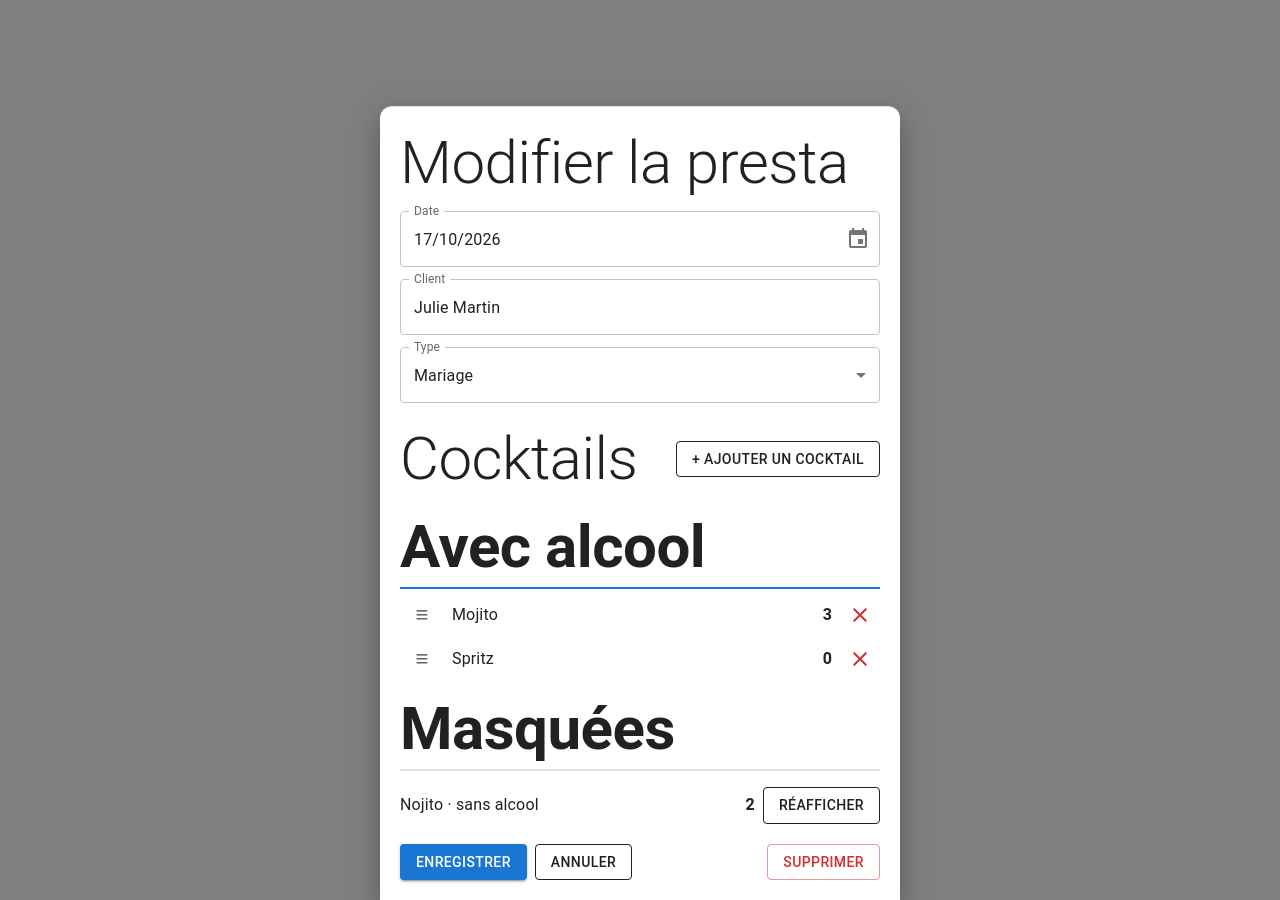
EcranModifierPresta › préremplit date, client et type
The image size is (1280, 900).
Expected: the element named "Date" reads "17 / 10 / 2026", [400,211,880,267]
Expected: the field labelled "Client" holds "Julie Martin", [400,279,880,335]
Press the mouse on the dropdown named "Type" at (444, 375), box [414,366,473,384]
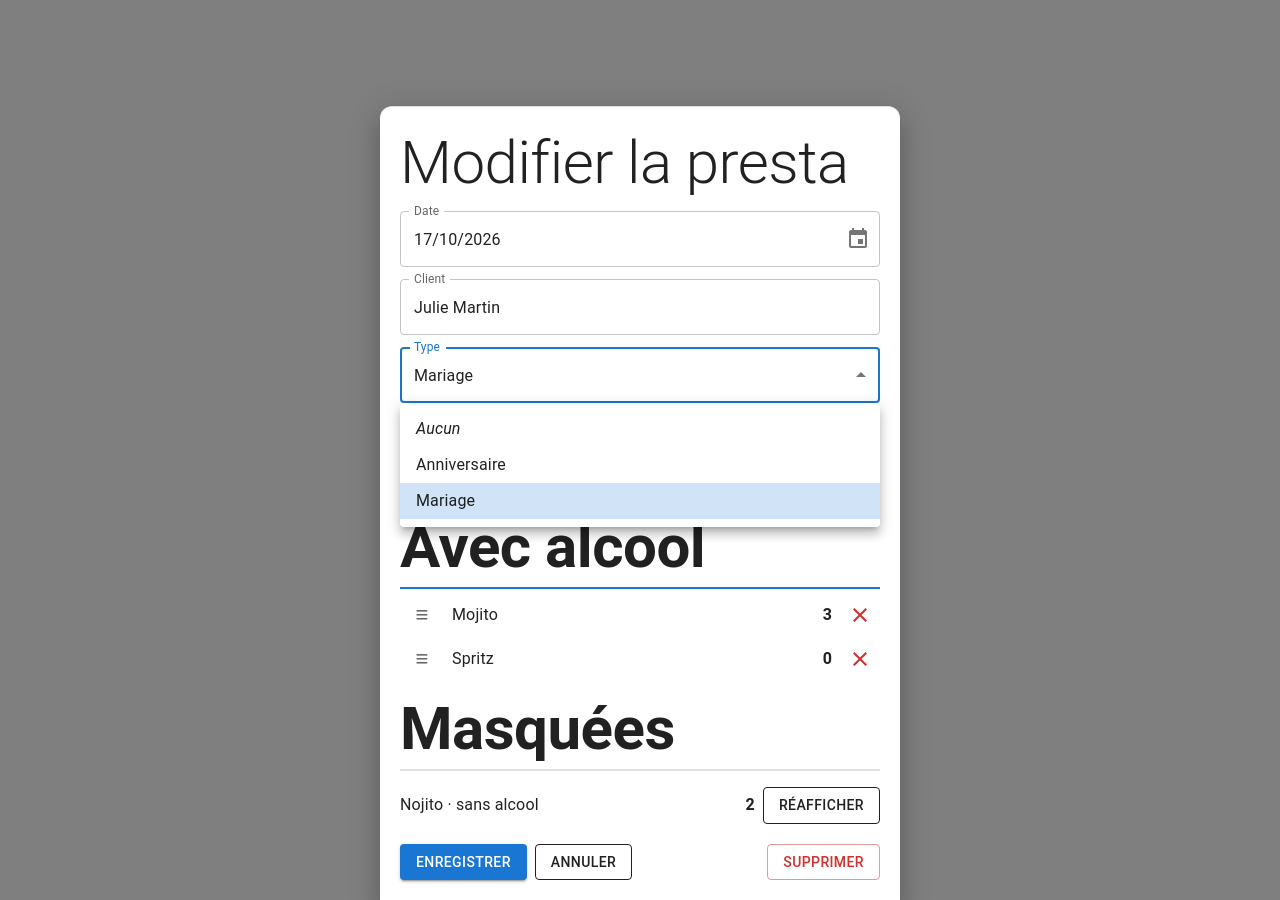
Result: the options read "Aucun", "Anniversaire", "Mariage", in this order at [416,419,461,438]; [416,455,506,474]; [400,483,880,519]
